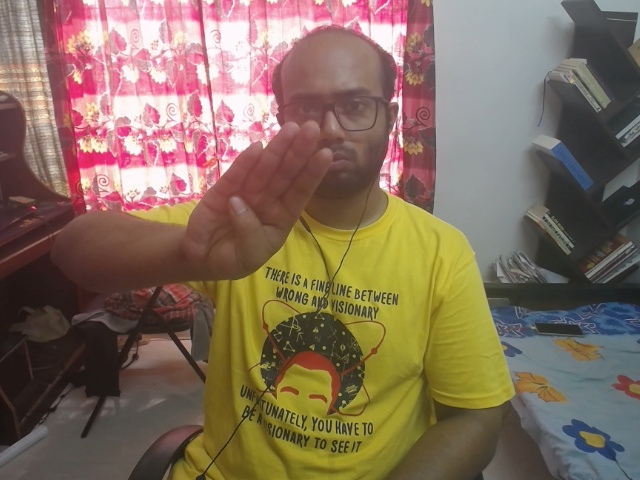counting: (181, 110, 339, 284)
